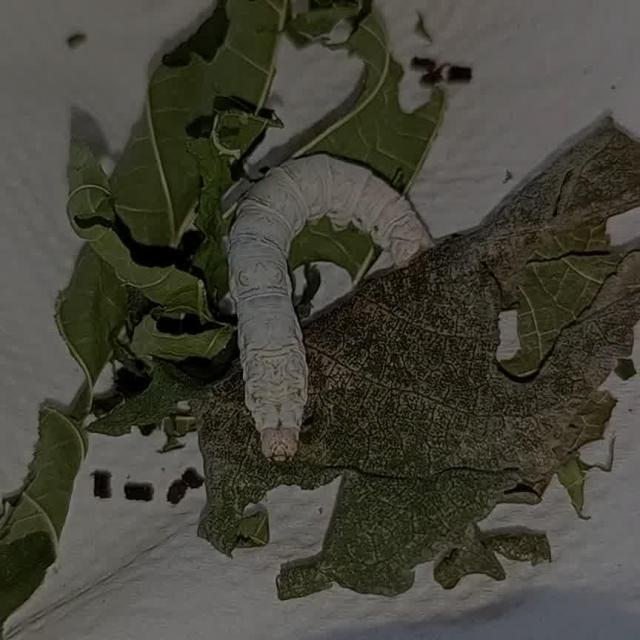Healthy: (218, 141, 440, 469)
